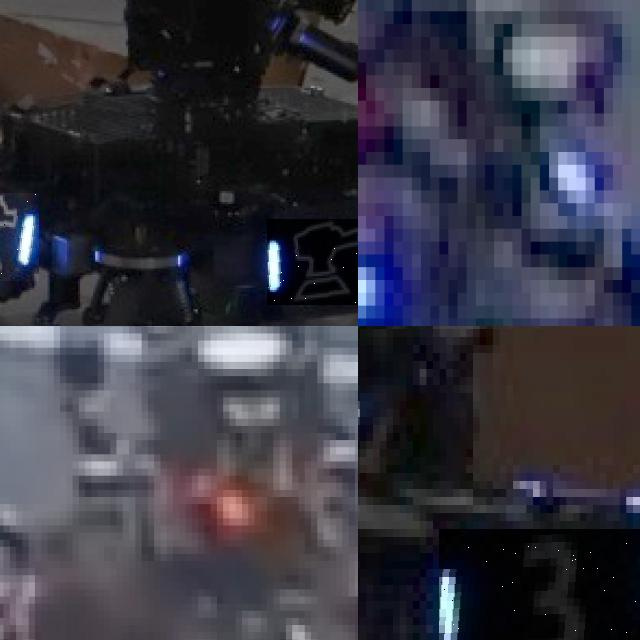B3: (439, 529, 640, 640)
Bs: (267, 219, 358, 305), (0, 193, 39, 281)
